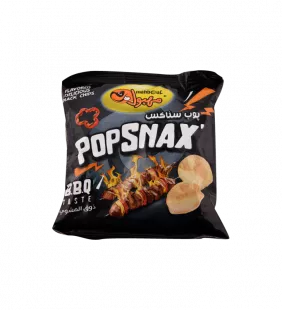MAHBOUL: (44, 60, 237, 245)
